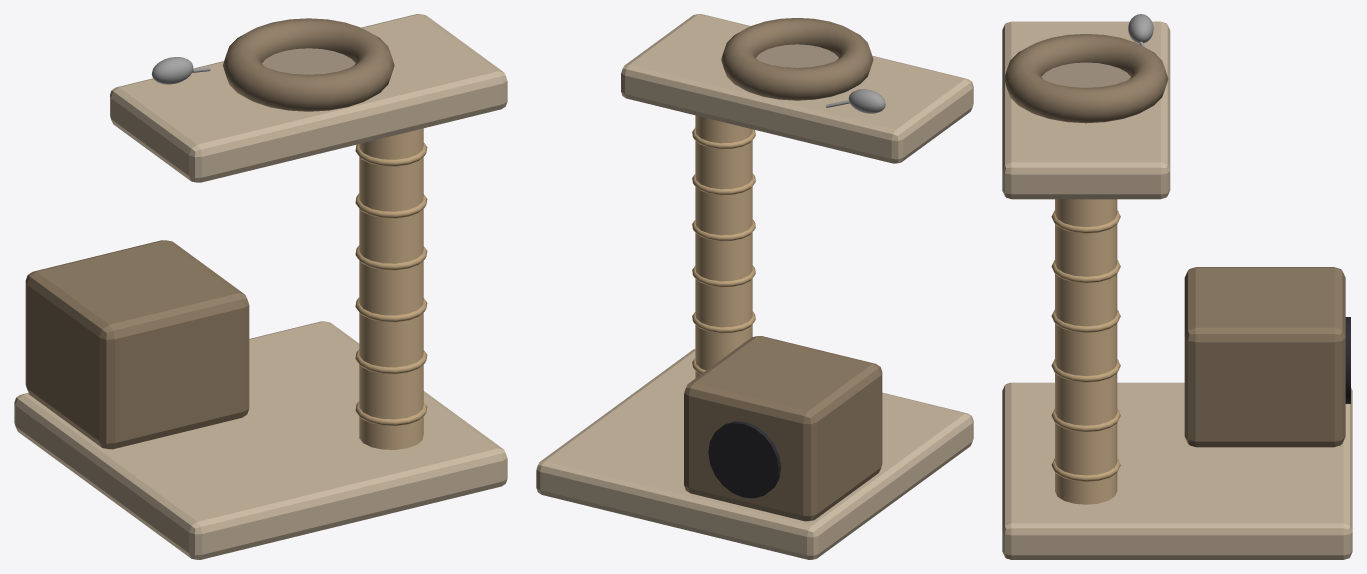
The model's file is cat_tree.fbx.
3 views of the same model, side by side, from view 1: azimuth 30°, elevation 25°; view 2: azimuth 150°, elevation 25°; view 3: azimuth 270°, elevation 25° (orthographic). The views are drawn at different scales.
Parts seen in each view (by area): view 1: Cat Tree; view 2: Cat Tree; view 3: Cat Tree.
Boxes of the visible parts, box(x1,y1,x2,y2) form: Cat Tree: box(14, 14, 507, 559); Cat Tree: box(536, 14, 973, 559); Cat Tree: box(1002, 14, 1352, 559).
Bounding box in the file's own units: 1.92 × 2.58 × 1.92.
